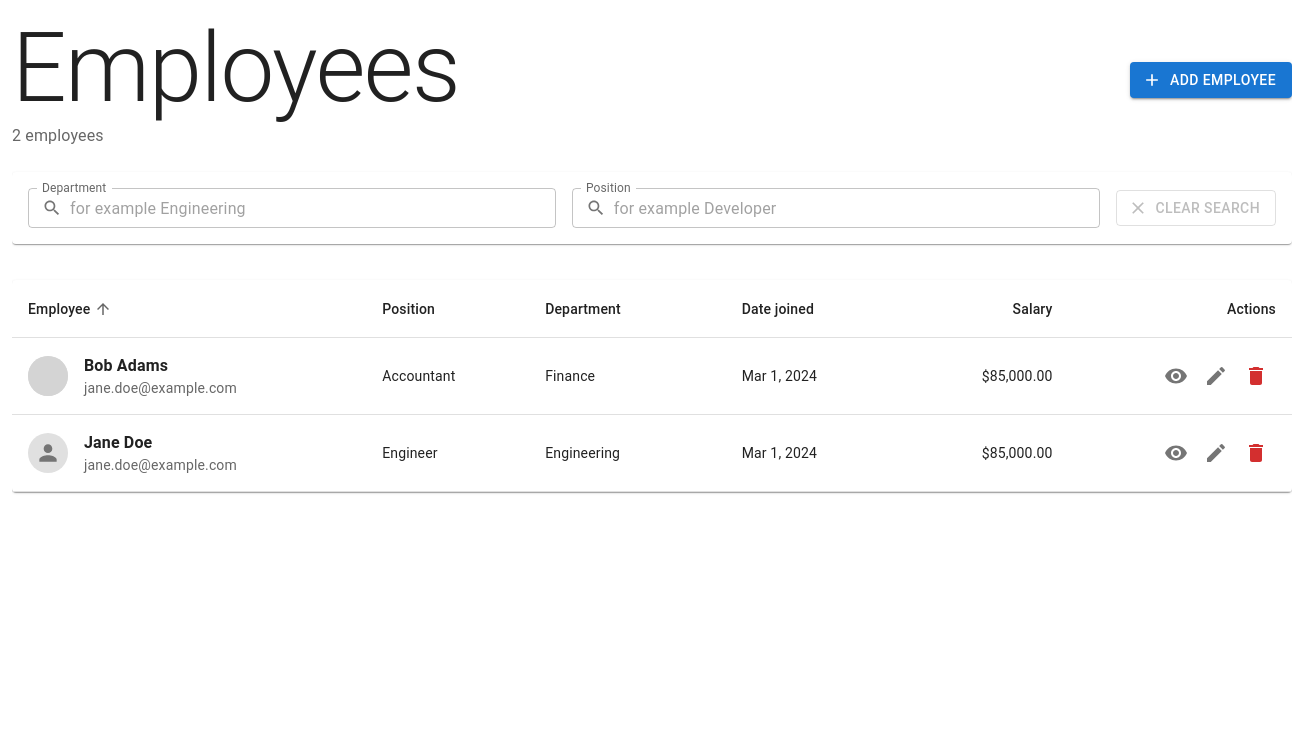
Test: EmployeeListPage: searching › shows a friendly error when the search request fails, and recovers
Type "eng" into the field labelled "Department" at (313, 208), box [70, 188, 556, 228]
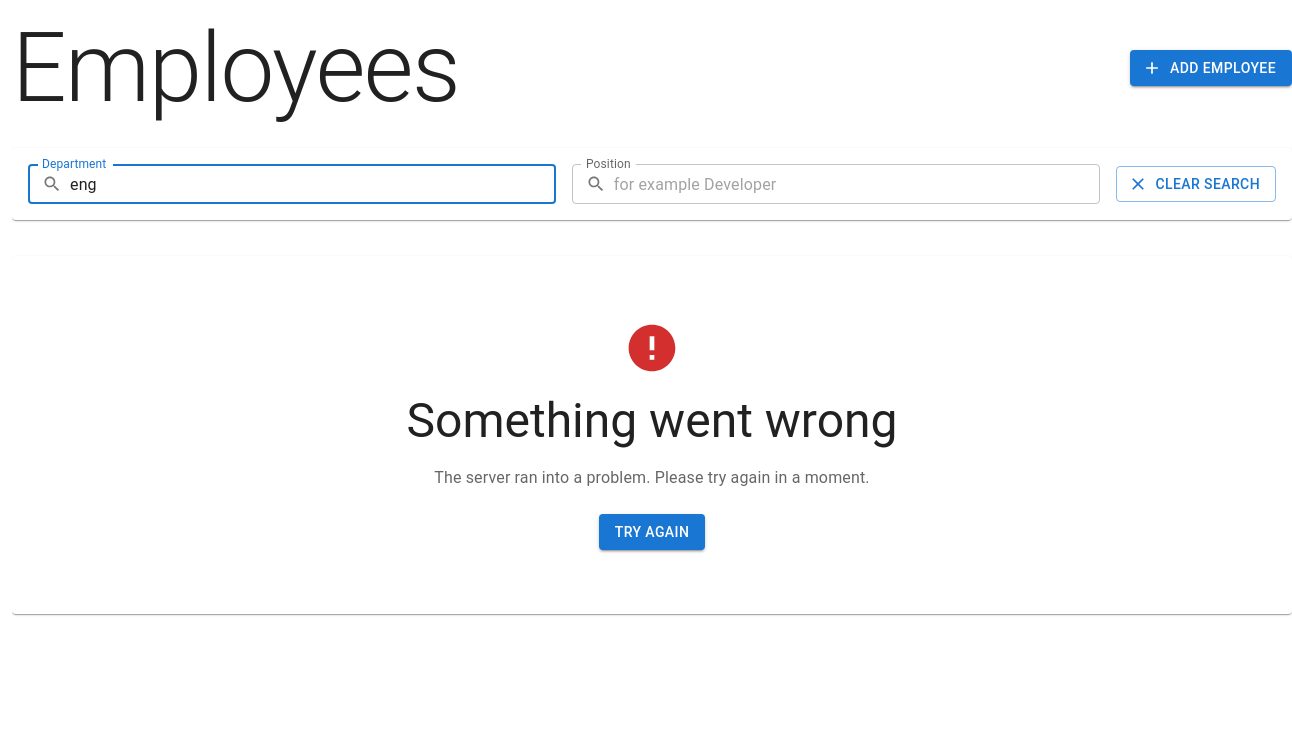
Expected: the form is shown, [12, 148, 1291, 220]
Expected: the message shows "The server ran into a problem. Please try again in a moment.", [434, 468, 870, 487]
Click the button "Try again" at (652, 532), box [599, 514, 705, 550]
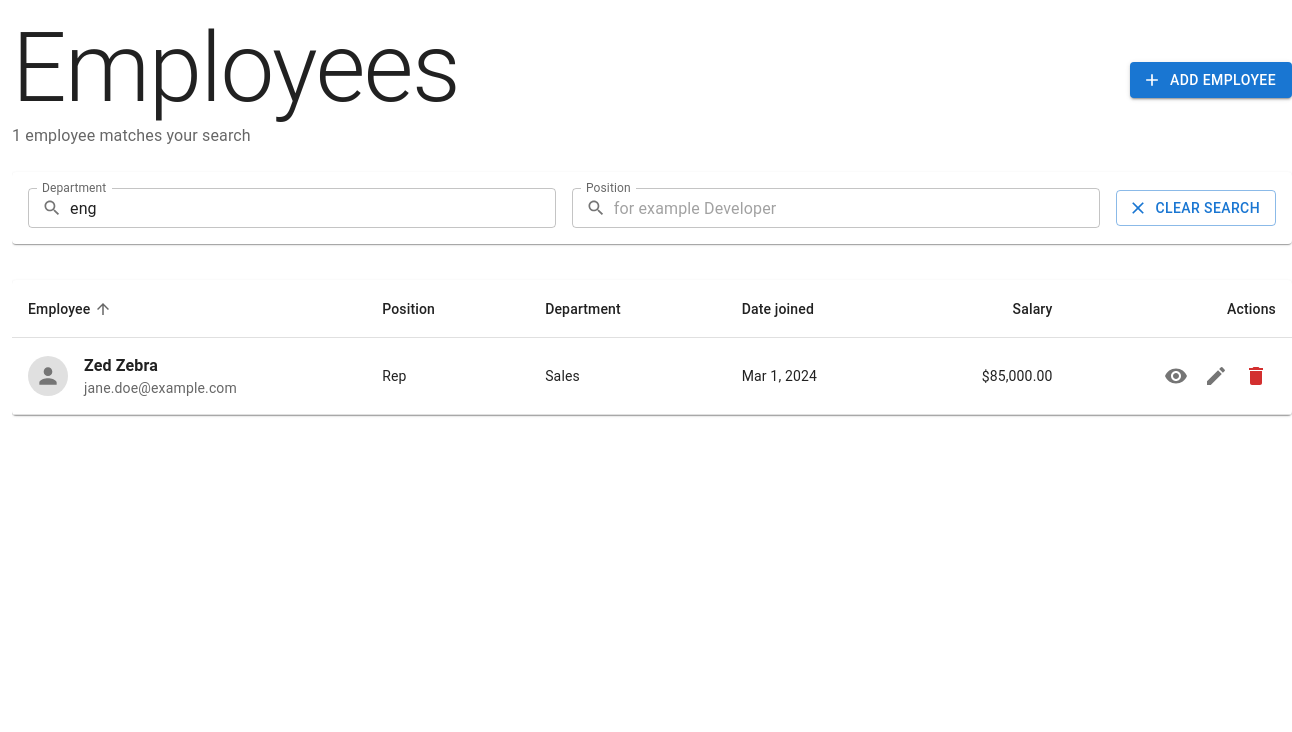
Expected: the row "Zed Zebra" is shown, [12, 338, 1291, 415]
